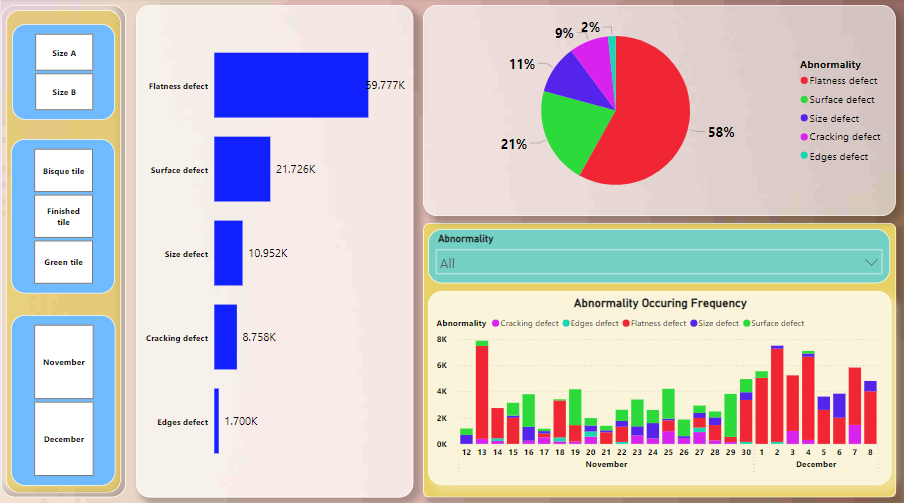

What the dashboard file says about the page in this screenshot:
{"tool":"powerbi","page":{"name":"Page 1","canvas":[1280,720],"ordinal":0},"visuals":[{"type":"clusteredBarChart","fields":{"Y":["Sum(QC Analysis report pbix.Hold stock (sqm))"],"Category":["QC Analysis report pbix.Abnormality"]},"box":[191.5,10.1,393.1,698.4],"z":0},{"type":"shape","box":[0,10.1,177.1,698.4],"z":1000},{"type":"slicer","fields":{"Values":["QC Analysis report pbix.Size"]},"box":[15,36.2,146.2,136.2],"z":2000},{"type":"slicer","fields":{"Values":["QC Analysis report pbix.Type"]},"box":[13.7,200.4,146.9,218.9],"z":3000},{"type":"shape","box":[597.8,318.9,670.7,389],"z":4000},{"type":"slicer","fields":{"Values":["QC Analysis report pbix.Abnormality"]},"box":[605.7,327.5,655,77.5],"z":5000},{"type":"lineStackedColumnComboChart","title":"Abnormality Occuring Frequency","fields":{"Category":["QC Analysis report pbix.Date.Variation.Date Hierarchy.Month","QC Analysis report pbix.Date.Variation.Date Hierarchy.Day"],"Y":["Sum(QC Analysis report pbix.Hold stock (sqm))"],"Series":["QC Analysis report pbix.Abnormality"]},"box":[605.7,415.5,656.7,274.7],"z":6000},{"type":"slicer","fields":{"Values":["QC Analysis report pbix.Date.Variation.Date Hierarchy.Month"]},"box":[13.5,448.7,147.8,241.9],"z":7000},{"type":"pieChart","fields":{"Y":["Sum(QC Analysis report pbix.Hold stock (sqm))"],"Category":["QC Analysis report pbix.Abnormality"]},"box":[598,10.1,670.2,299],"z":8000}]}

Visuals, with their boxes in screenshot pixels (x1, y1, x2, y2), scaled from the page's 1280x720 canvas onto the 904x503 screenshot:
clusteredBarChart - Sum(QC Analysis report pbix.Hold stock (sqm)) x QC Analysis report pbix.Abnormality: (x1=135, y1=7, x2=413, y2=495)
shape: (x1=0, y1=7, x2=125, y2=495)
slicer - QC Analysis report pbix.Size: (x1=11, y1=25, x2=114, y2=120)
slicer - QC Analysis report pbix.Type: (x1=10, y1=140, x2=113, y2=293)
shape: (x1=422, y1=223, x2=896, y2=495)
slicer - QC Analysis report pbix.Abnormality: (x1=428, y1=229, x2=890, y2=283)
"Abnormality Occuring Frequency" lineStackedColumnComboChart: (x1=428, y1=290, x2=892, y2=482)
slicer - QC Analysis report pbix.Date.Variation.Date Hierarchy.Month: (x1=10, y1=313, x2=114, y2=482)
pieChart - Sum(QC Analysis report pbix.Hold stock (sqm)) x QC Analysis report pbix.Abnormality: (x1=422, y1=7, x2=896, y2=216)
